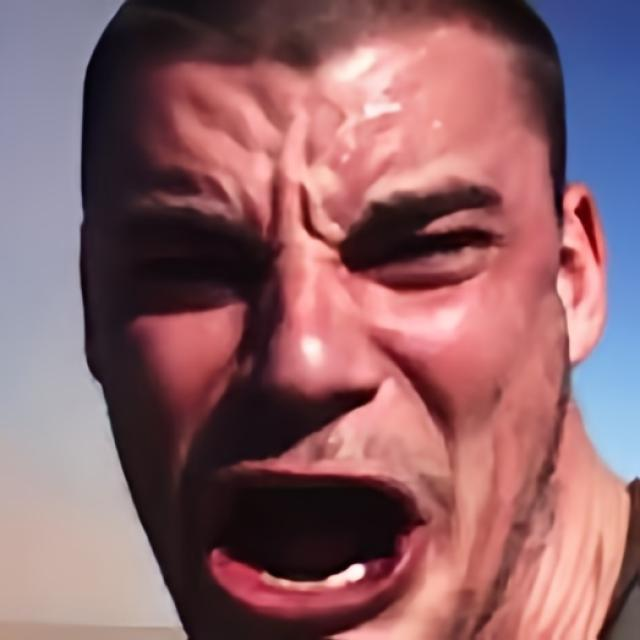anger: (80, 29, 564, 640)
